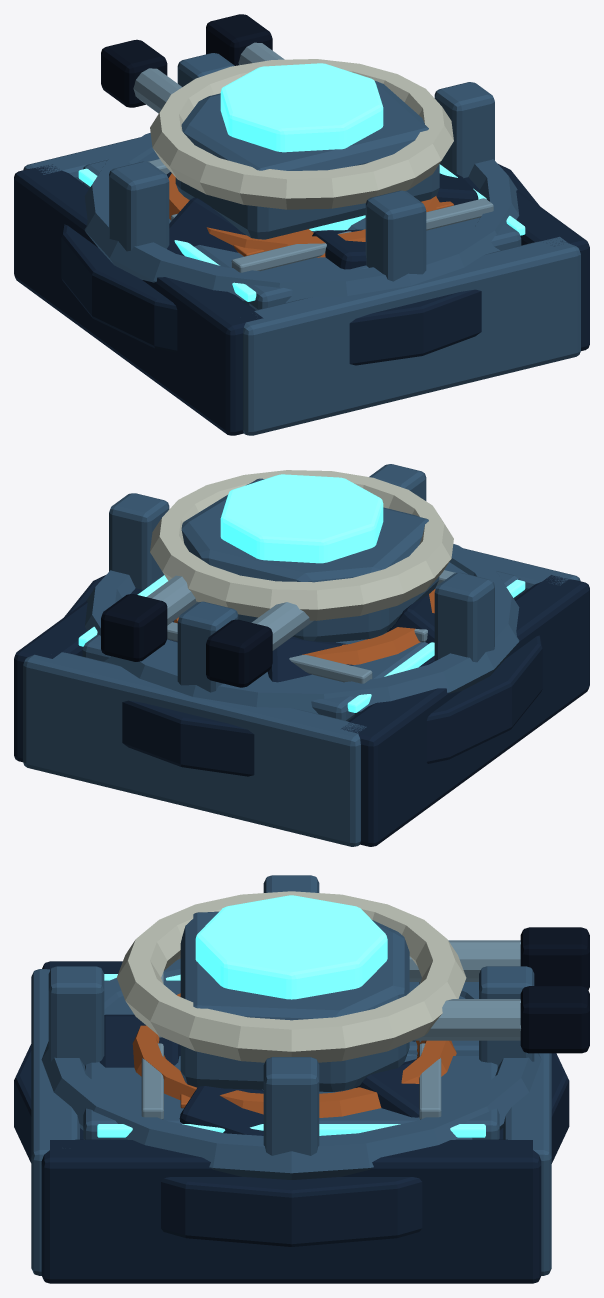
The model's file is combat-arcade-v2.glb.
The picture shows the model from 3 angles, top to bottom: view 1: azimuth 30°, elevation 25°; view 2: azimuth 150°, elevation 25°; view 3: azimuth 270°, elevation 25°; orthographic projection. The views are drawn at different scales.
Parts seen in each view (by area): view 1: intact_paint, intact.002_paint, rotor_paint, rotor.001_paint, rotor.001_glow, door_left_paint, destroyed_paint, door_right_paint, intact.001_paint, intact_glow; view 2: intact_paint, intact.002_paint, rotor_paint, rotor.001_paint, rotor.001_glow, door_left_paint, intact.001_paint, destroyed_paint, intact_glow, destroyed.001_paint, door_right_paint; view 3: intact_paint, intact.002_paint, rotor_paint, rotor.001_paint, rotor.001_glow, door_right_paint, destroyed_paint, intact.001_paint, intact_glow, destroyed.001_paint, door_left_paint.
Boxes of the visible parts, bbox=[...] form: intact_paint: bbox=[14, 137, 589, 435]; intact.002_paint: bbox=[61, 53, 539, 365]; rotor_paint: bbox=[101, 14, 439, 239]; rotor.001_paint: bbox=[150, 59, 453, 209]; rotor.001_glow: bbox=[220, 63, 383, 230]; door_left_paint: bbox=[83, 151, 368, 310]; destroyed_paint: bbox=[167, 173, 478, 269]; door_right_paint: bbox=[348, 198, 521, 252]; intact.001_paint: bbox=[168, 173, 439, 257]; intact_glow: bbox=[78, 164, 525, 301]; intact_paint: bbox=[14, 548, 589, 846]; intact.002_paint: bbox=[64, 464, 542, 776]; rotor_paint: bbox=[101, 478, 439, 687]; rotor.001_paint: bbox=[150, 470, 453, 620]; rotor.001_glow: bbox=[220, 474, 383, 563]; door_left_paint: bbox=[254, 562, 520, 721]; intact.001_paint: bbox=[174, 589, 435, 667]; destroyed_paint: bbox=[172, 594, 434, 682]; intact_glow: bbox=[78, 575, 525, 712]; destroyed.001_paint: bbox=[167, 621, 353, 681]; door_right_paint: bbox=[82, 622, 177, 664]; intact_paint: bbox=[31, 961, 551, 1283]; intact.002_paint: bbox=[14, 875, 569, 1246]; rotor_paint: bbox=[180, 911, 589, 1091]; rotor.001_paint: bbox=[117, 891, 466, 1062]; rotor.001_glow: bbox=[195, 895, 387, 999]; door_right_paint: bbox=[83, 1043, 499, 1139]; destroyed_paint: bbox=[99, 1014, 418, 1135]; intact.001_paint: bbox=[132, 993, 456, 1117]; intact_glow: bbox=[97, 974, 485, 1137]; destroyed.001_paint: bbox=[355, 1059, 419, 1117]; door_left_paint: bbox=[104, 971, 478, 1055].
Size of the model in its own units: 4 by 2.06 by 4.15.
